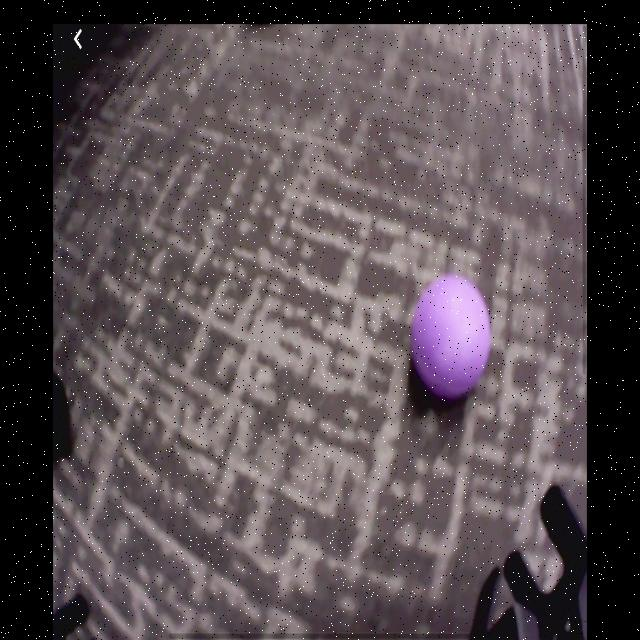ball: (413, 276, 492, 402)
